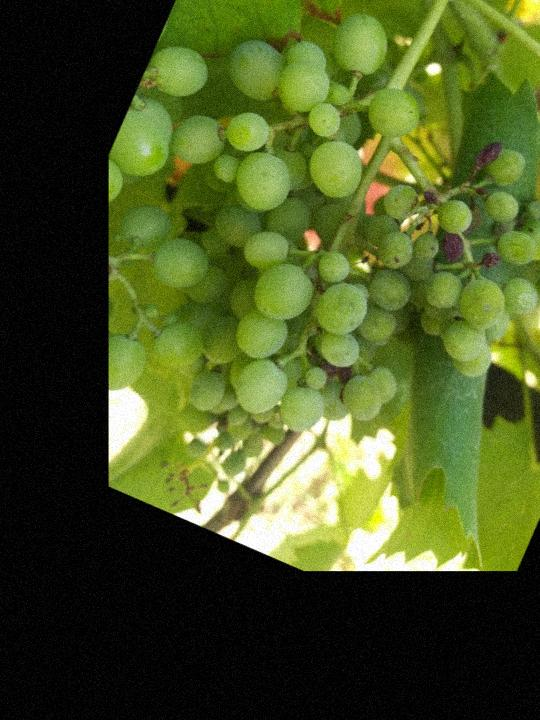grape: (92, 0, 540, 522)
